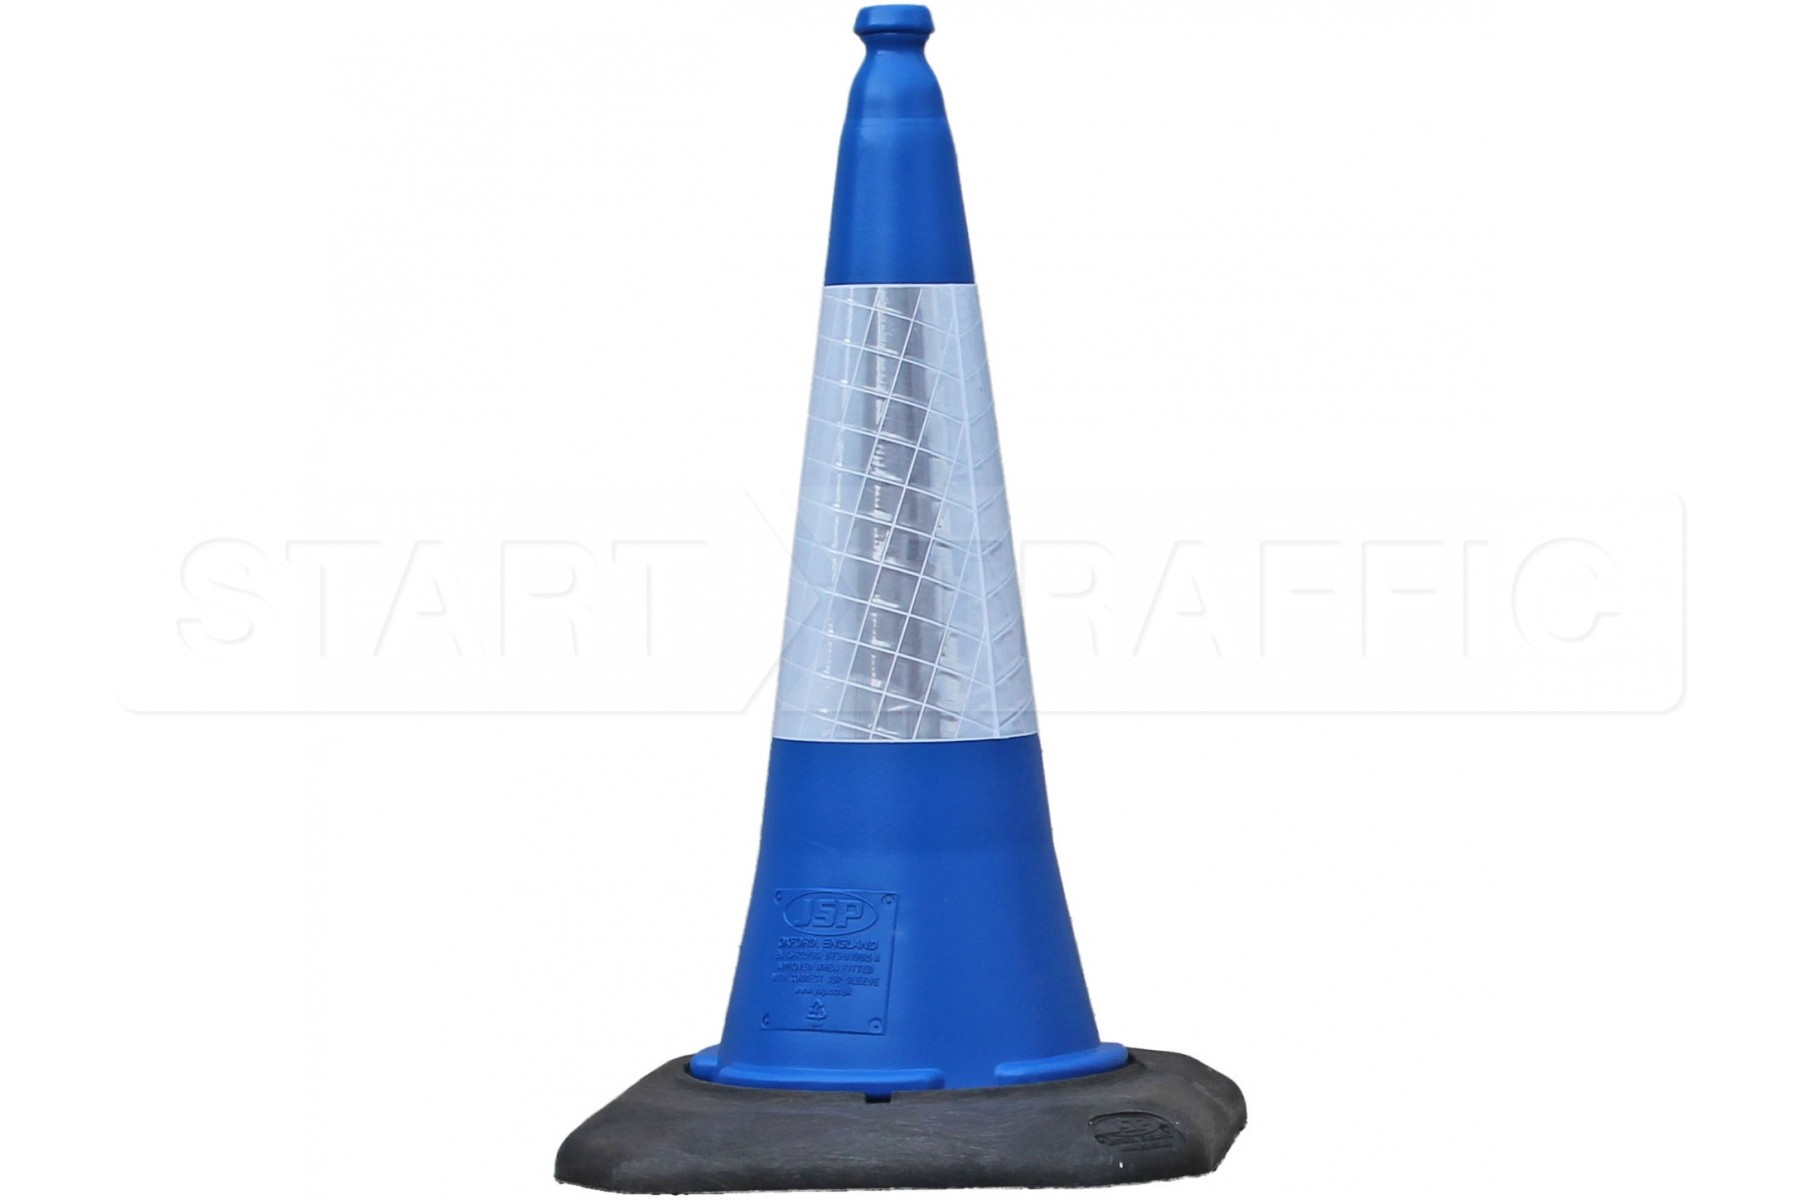blueC: (453, 1, 1288, 1200)
